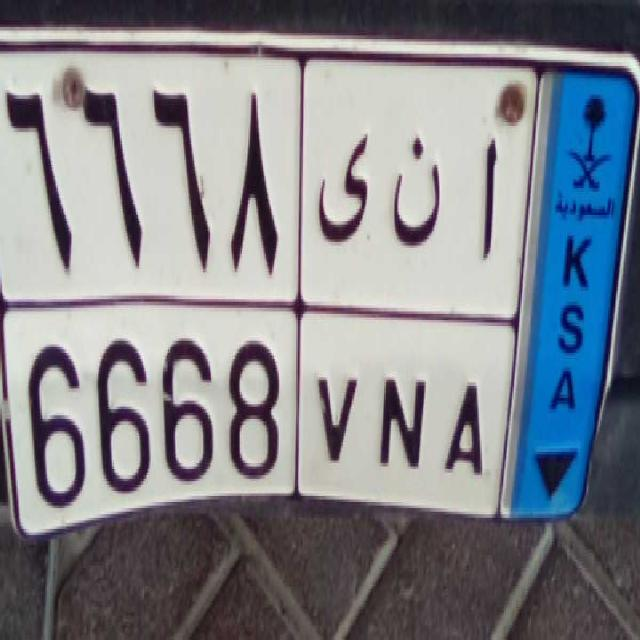license_plate: (0, 302, 510, 532)
